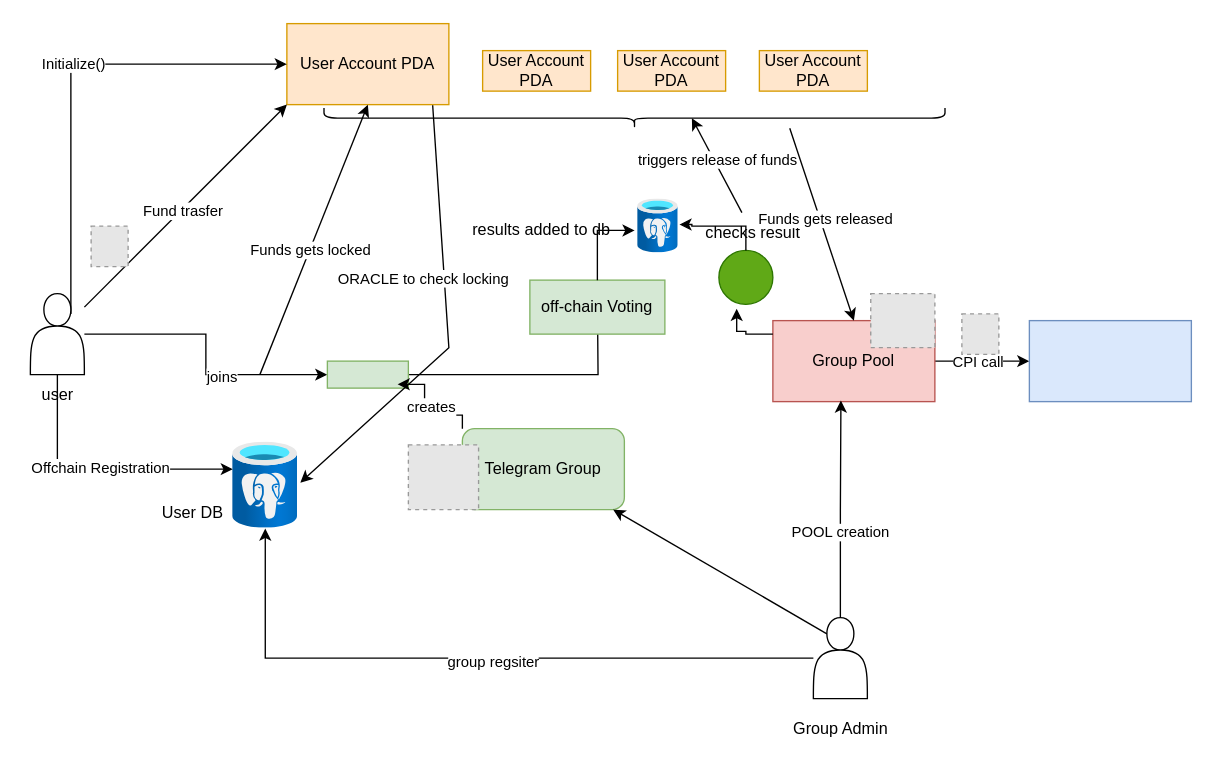
Some shapes in this 1215 by 774 pixel diagram are drawn without their labels. Grey dashed boxes stand in for pictures. The shapes that lost their labels are listed below. From the top down, each one's centre as x and y in pixels, then its label:
At point (745, 276): "oracle".
At point (367, 374): "Session".
At point (1109, 360): "Raydium Dex".
